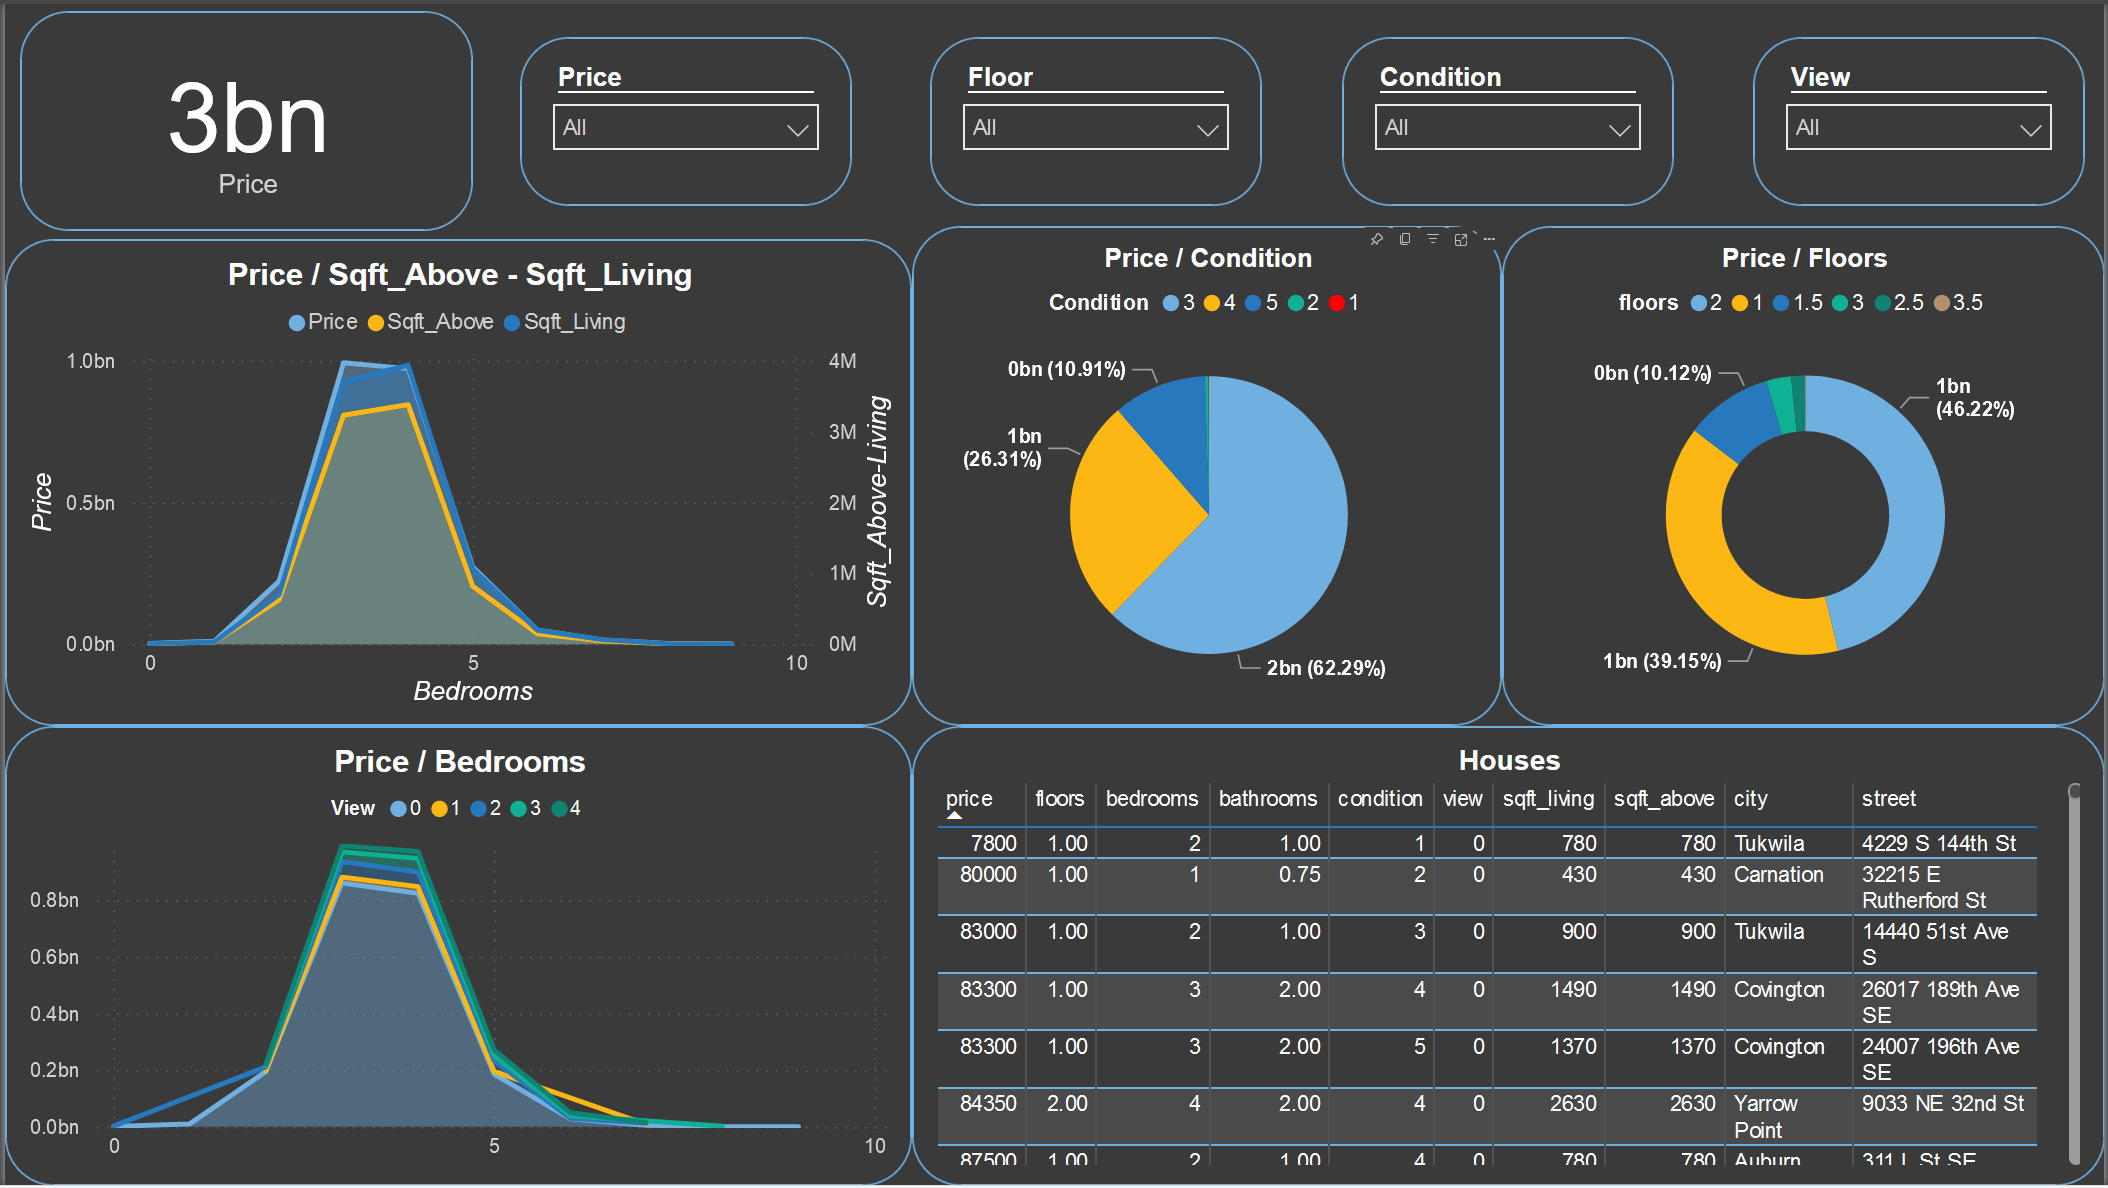

The page's visual inventory and layout, read from the dashboard file:
{"tool":"powerbi","page":{"name":"Página 1","canvas":[1280,720],"ordinal":0},"visuals":[{"type":"card","fields":{"Values":["Sum(housedata.price)"]},"box":[8.9,4.5,275.9,134],"z":0},{"type":"slicer","fields":{"Values":["housedata.price"]},"box":[313.9,20.1,202.2,102.8],"z":1000},{"type":"stackedAreaChart","title":"Price / Bedrooms","fields":{"Category":["housedata.bedrooms"],"Y":["Sum(housedata.price)"],"Series":["housedata.view"]},"box":[0,440.1,552.9,280.3],"z":2000},{"type":"areaChart","title":"Price / Sqft_Above - Sqft_Living","fields":{"Y":["Sum(housedata.price)"],"Y2":["Sum(housedata.sqft_above)","Sum(housedata.sqft_living)"],"Category":["housedata.bedrooms"]},"box":[0,143,552.9,297.1],"z":3000},{"type":"donutChart","title":"Price / Floors","fields":{"Y":["Sum(housedata.price)"],"Category":["housedata.floors"]},"box":[912.5,135.1,367.5,304.9],"z":4000},{"type":"pieChart","title":"Price / Condition","fields":{"Category":["housedata.condition"],"Y":["Sum(housedata.price)"]},"box":[552.9,135.1,359.7,304.9],"z":5000},{"type":"tableEx","title":"Houses","fields":{"Values":["housedata.price","housedata.floors","housedata.bedrooms","housedata.bathrooms","housedata.condition","housedata.view","housedata.sqft_living","housedata.sqft_above","housedata.city","housedata.street"]},"box":[552.9,440.1,727.1,280.3],"z":6000},{"type":"slicer","fields":{"Values":["housedata.floors"]},"box":[564,20.1,202.2,102.8],"z":7000},{"type":"slicer","fields":{"Values":["housedata.view"]},"box":[1065.5,20.1,202.2,102.8],"z":8000},{"type":"slicer","fields":{"Values":["housedata.condition"]},"box":[815.4,20.1,202.2,102.8],"z":9000}]}

Visuals, with their boxes in screenshot pixels (x1, y1, x2, y2), scaled from the page's 1280x720 canvas onto the 2108x1188 screenshot:
card - Sum(housedata.price): <box>15,7,469,229</box>
slicer - housedata.price: <box>517,33,850,203</box>
"Price / Bedrooms" stackedAreaChart: <box>0,726,911,1187</box>
"Price / Sqft_Above - Sqft_Living" areaChart: <box>0,236,911,726</box>
"Price / Floors" donutChart: <box>1503,223,2107,726</box>
"Price / Condition" pieChart: <box>911,223,1503,726</box>
"Houses" tableEx: <box>911,726,2107,1187</box>
slicer - housedata.floors: <box>929,33,1262,203</box>
slicer - housedata.view: <box>1755,33,2088,203</box>
slicer - housedata.condition: <box>1343,33,1676,203</box>
